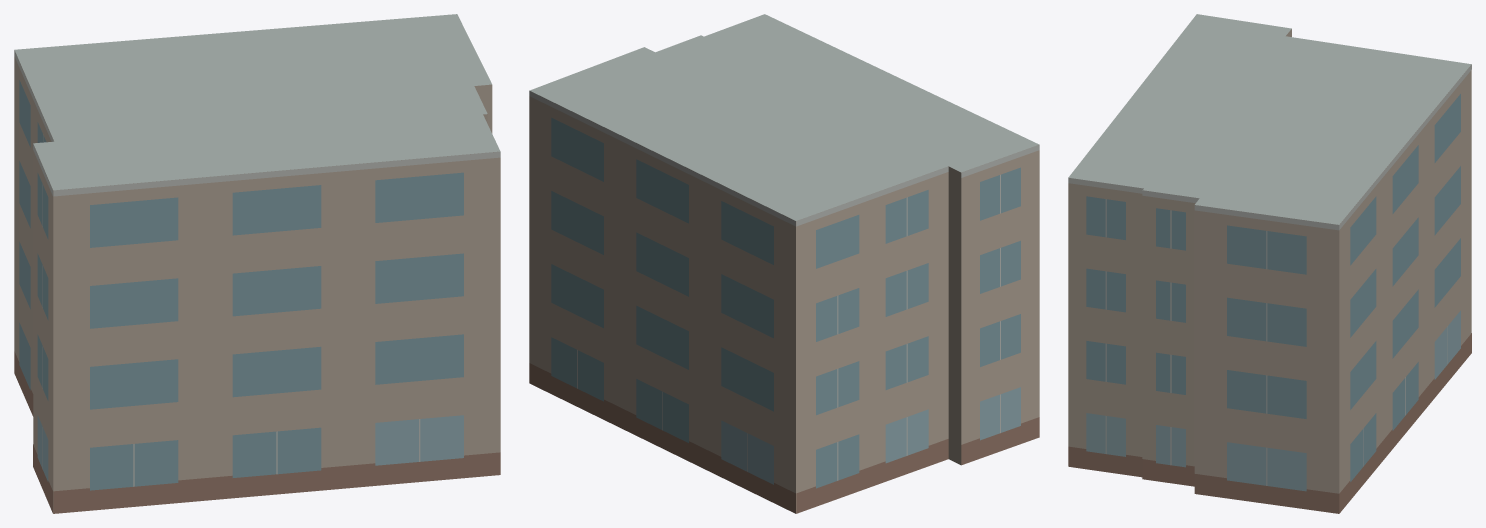
The model's file is survey-upis-32671767.glb.
3 views of the same model, side by side, from view 1: azimuth 30°, elevation 25°; view 2: azimuth 150°, elevation 25°; view 3: azimuth 270°, elevation 25° (orthographic). The views are drawn at different scales.
Visible parts, largest first — view 1: survey-upis-32671767.tmp; view 2: survey-upis-32671767.tmp; view 3: survey-upis-32671767.tmp.
Boxes of the visible parts, <box> form: survey-upis-32671767.tmp: <box>14,14,500,513</box>; survey-upis-32671767.tmp: <box>529,14,1039,513</box>; survey-upis-32671767.tmp: <box>1068,14,1471,513</box>.
Bounding box in the file's own units: 20.2 × 12.9 × 16.33.
